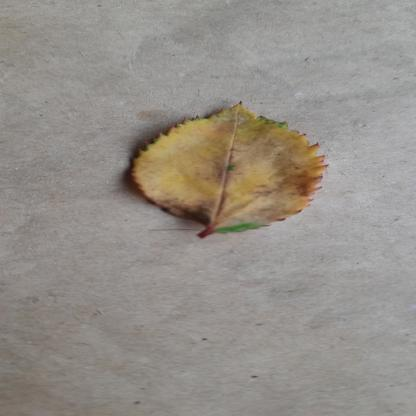black-spot: (125, 101, 336, 231)
